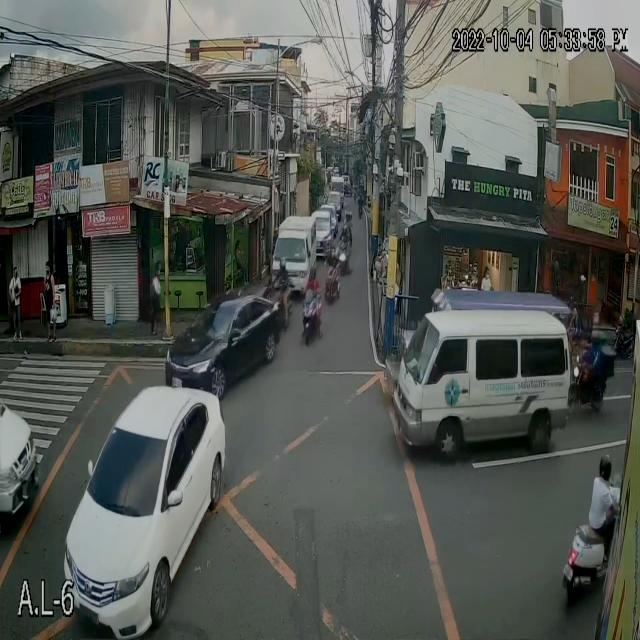Full-Faced: (595, 454, 613, 478), (308, 262, 318, 280), (279, 255, 288, 273)
